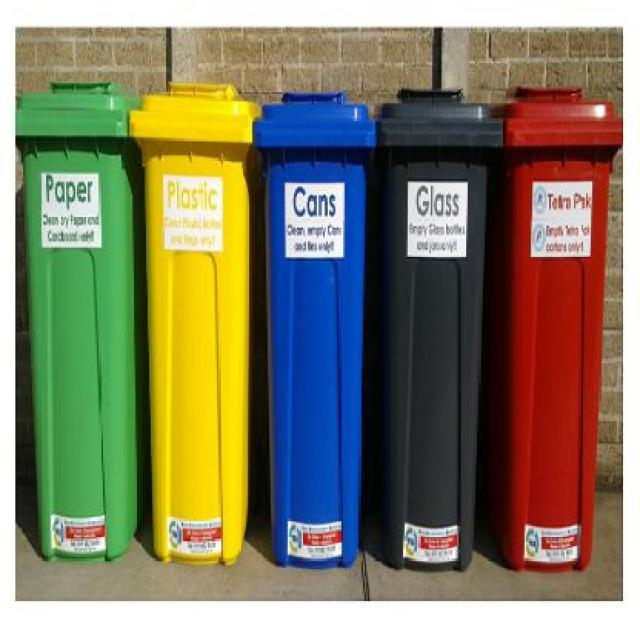garbage container: (488, 82, 623, 576), (133, 64, 261, 576), (15, 65, 144, 573), (369, 85, 503, 566), (252, 83, 379, 575)
